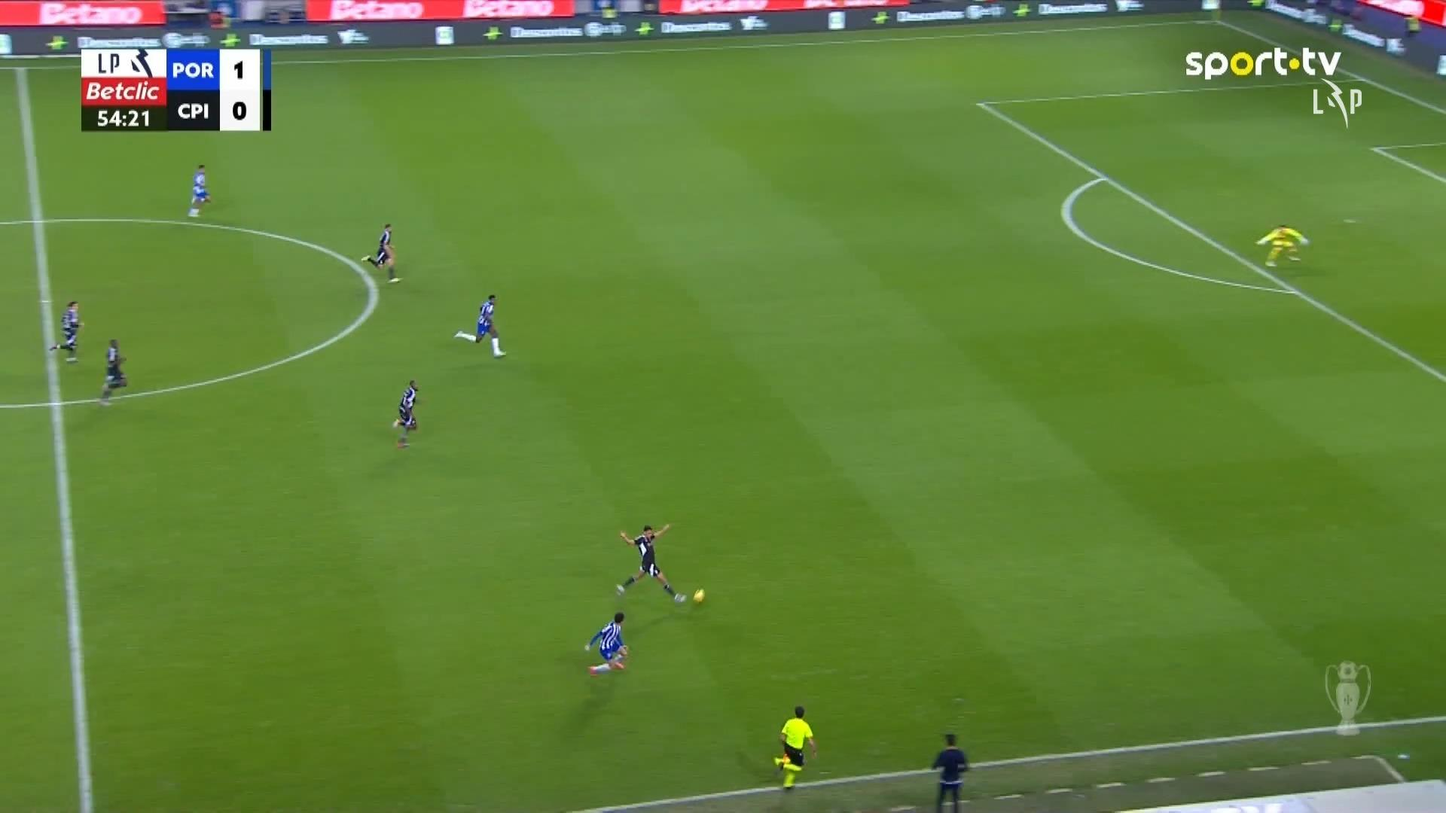ball: (692, 587, 704, 602)
goalkeeper: (1254, 224, 1310, 268)
player: (614, 522, 687, 603), (453, 293, 507, 358), (583, 611, 629, 675), (360, 222, 401, 283), (48, 300, 84, 363), (99, 337, 128, 406), (392, 379, 419, 448), (188, 163, 212, 217)
referee: (773, 705, 817, 790), (930, 732, 969, 811)
